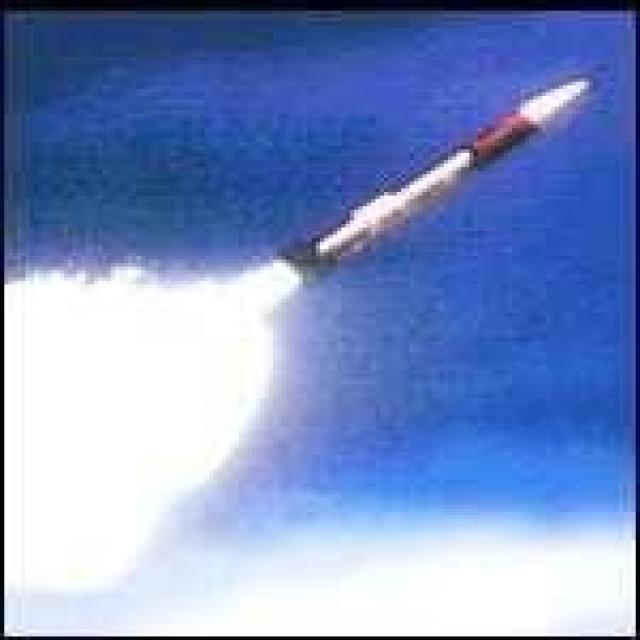missile: (286, 72, 604, 290)
